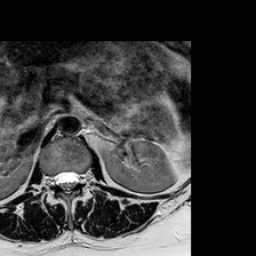CCS_normal: (63, 162, 71, 201)
LFS_normal: (79, 162, 85, 190)
LLS_normal: (71, 162, 79, 195)
RFS_normal: (47, 165, 55, 195)
RLS_normal: (55, 163, 63, 195)
